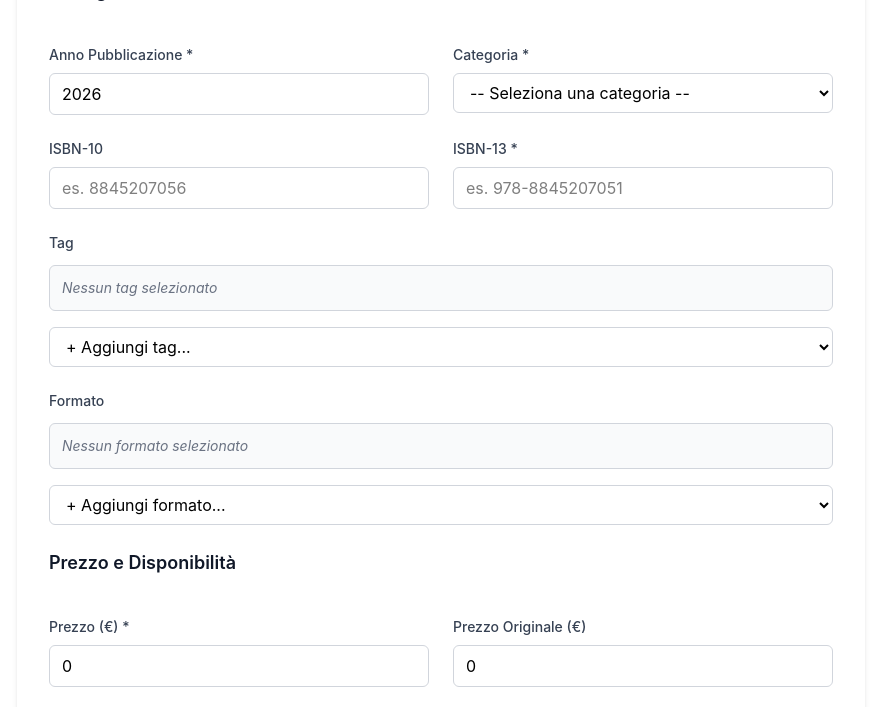
Scenario: BookForm › allows removing tags
(page scrolled)
// Aggiungi prima un tag
Select "Fantasy" in the dropdown showing "+ Aggiungi tag..." below "Nessun tag selezionato": (441, 347) [49, 327, 833, 367]
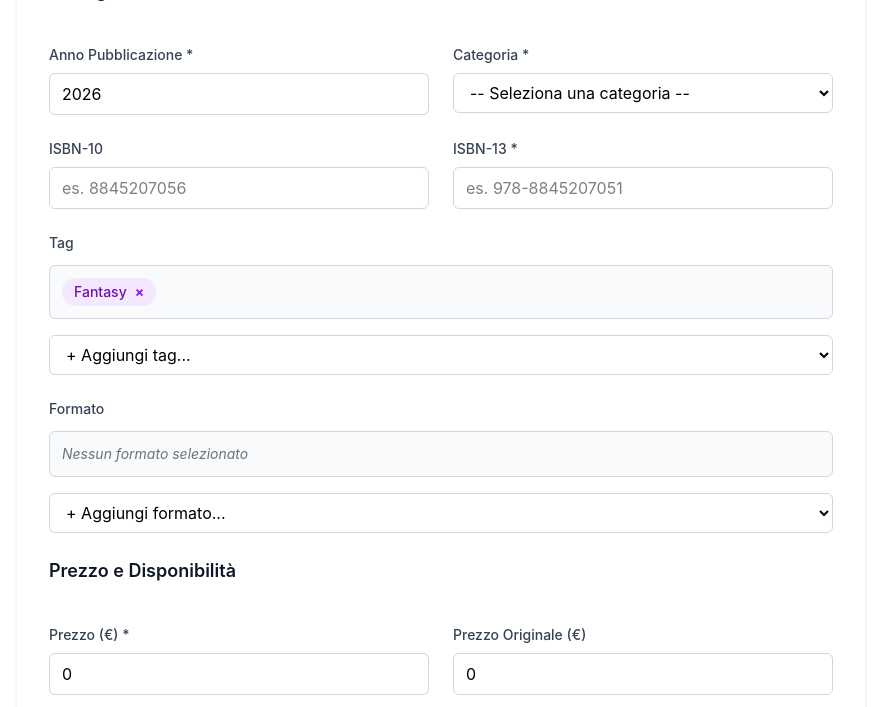
Check: the text "Fantasy" is shown, box [74, 283, 127, 300]
// Rimuovi il tag cliccando su X
Click the button "×": (139, 292) [135, 282, 144, 302]
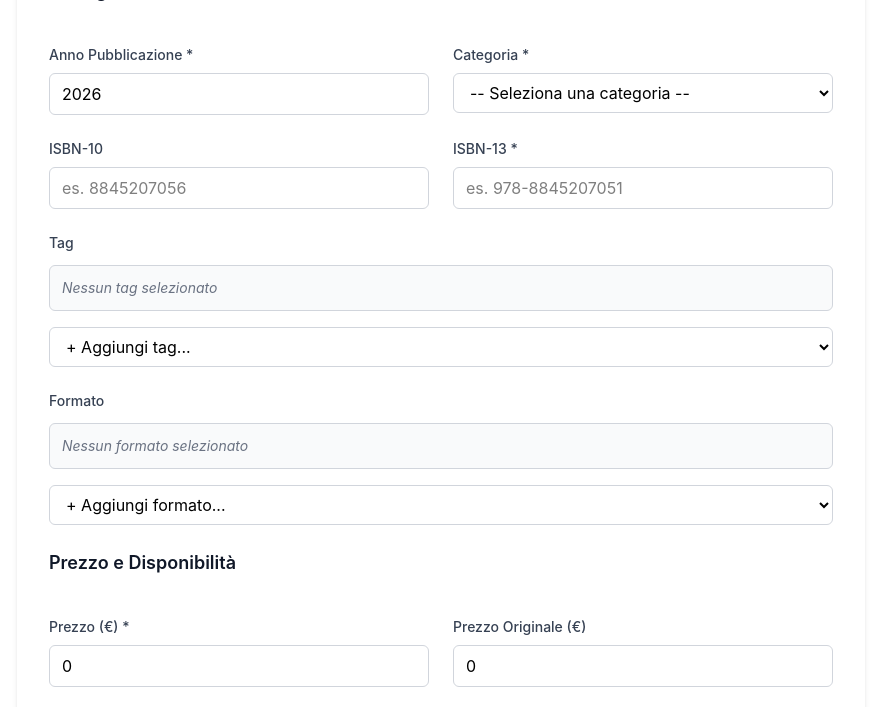
Check: the text "Nessun tag selezionato" is shown, box [62, 278, 217, 298]
